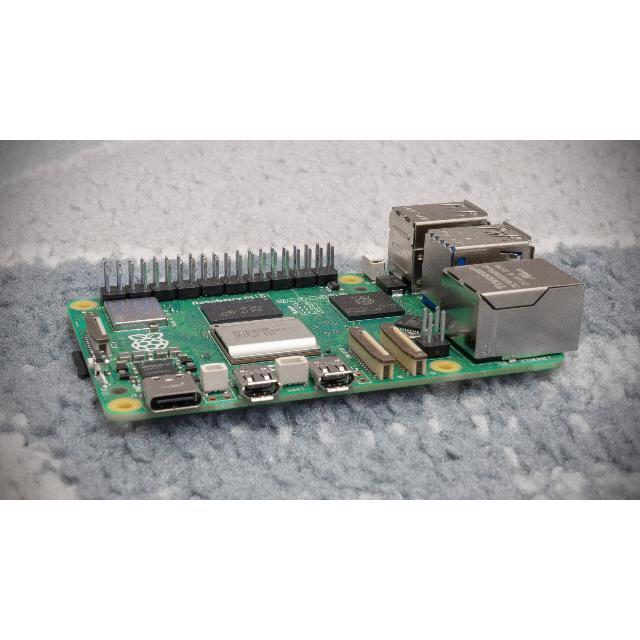Raspberry-Pi-5: (68, 201, 584, 420)
